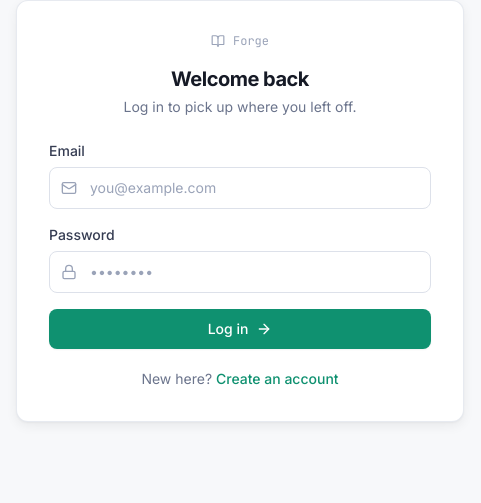
AuthPage › shows error and stays logged out when login fails
The image size is (481, 503).
Type "bad@example.com" into the field labelled "Email" at {"x": 240, "y": 188}, box x1=49 y1=167 x2=431 y2=209
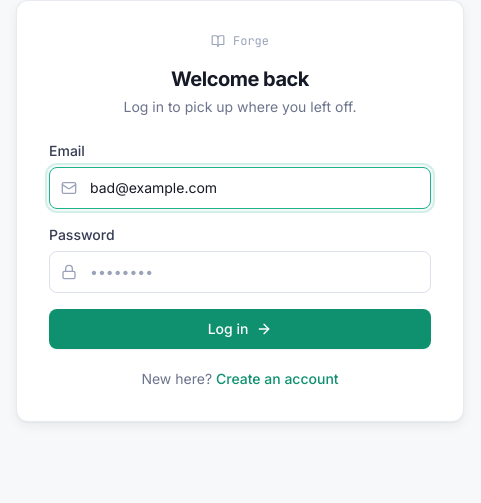
Type "password123" into the password field labelled "Password" at {"x": 240, "y": 272}, box x1=49 y1=251 x2=431 y2=293
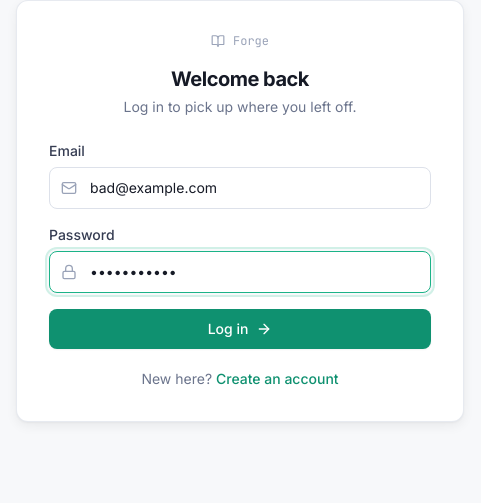
Click the button "Log in" at {"x": 240, "y": 329}, box x1=49 y1=309 x2=431 y2=349
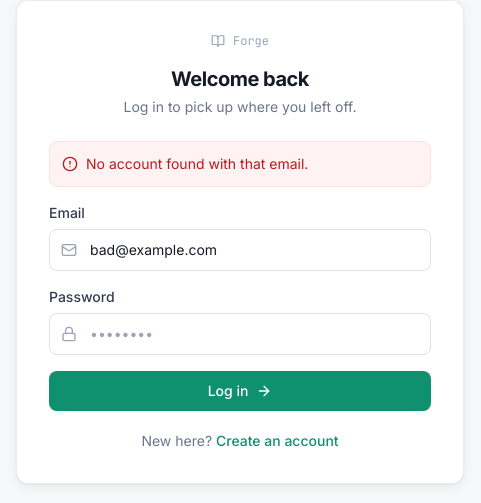
Expected: the text "No account found with that email." is shown, x1=86 y1=154 x2=308 y2=174
